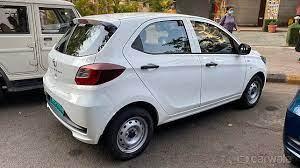Tiago: (41, 7, 271, 160)
